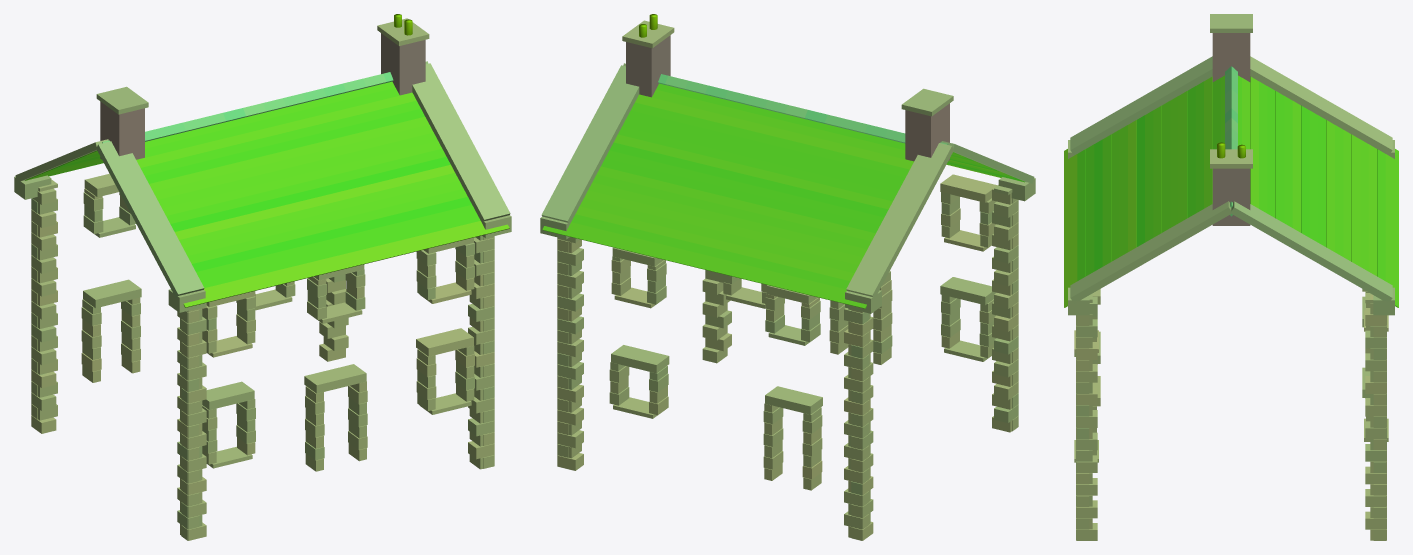
Rendered from SM_Bld_192_Stone.glb.
3 views of the same model, side by side, from view 1: azimuth 30°, elevation 25°; view 2: azimuth 150°, elevation 25°; view 3: azimuth 270°, elevation 25° (orthographic).
Visible parts, largest first — view 1: SM_Bld_192_Stone; view 2: SM_Bld_192_Stone; view 3: SM_Bld_192_Stone.
Boxes of the visible parts, x1,y1,x2,y2 form: SM_Bld_192_Stone: (14,14,511,540); SM_Bld_192_Stone: (540,14,1035,540); SM_Bld_192_Stone: (1064,14,1398,540).
Bounding box in the file's own units: 9.12 × 10.35 × 8.05.
